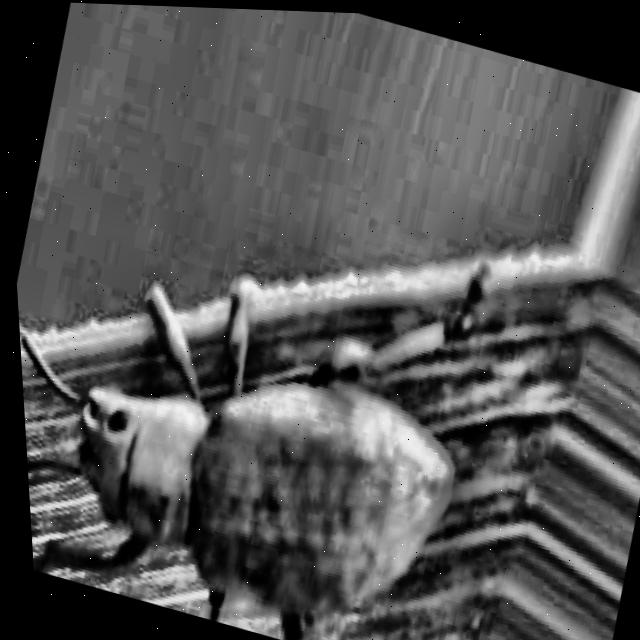Stink bug: (4, 90, 551, 640)
